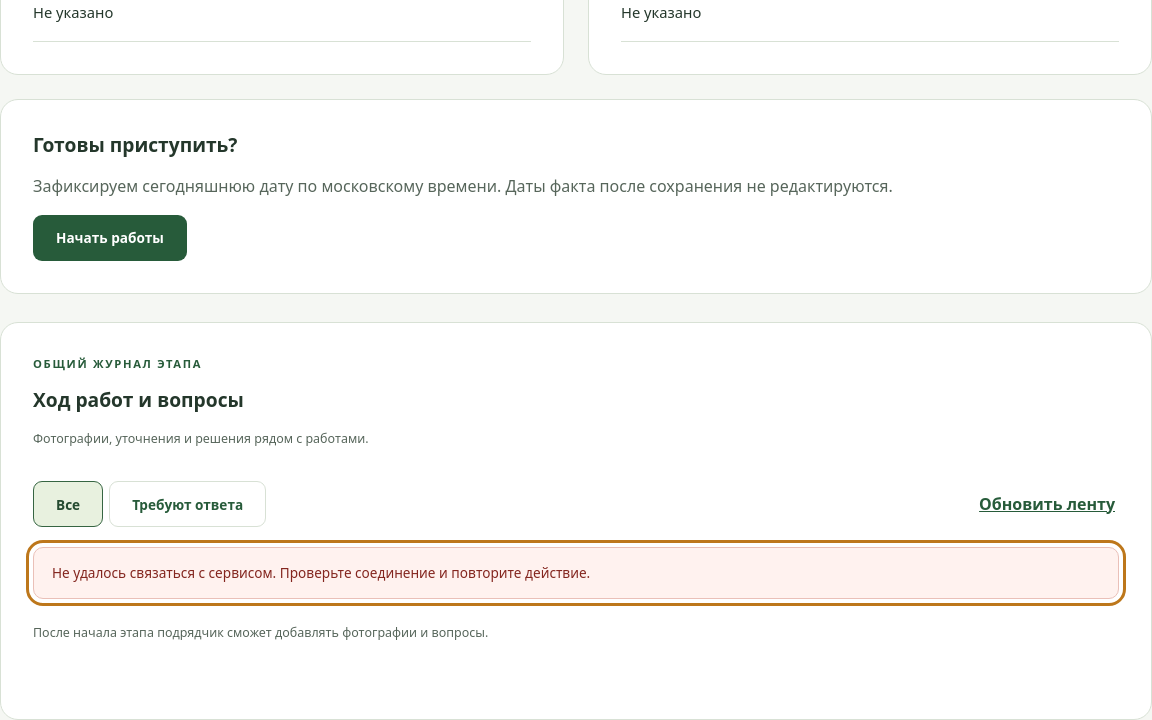
Scenario: подрядчик видит только доступный переход и результат начала работ
(page scrolled)
Step 1. Click the button "Начать работы" → [110, 238], box top-left (33, 215), bottom-right (187, 261)
(page scrolled)
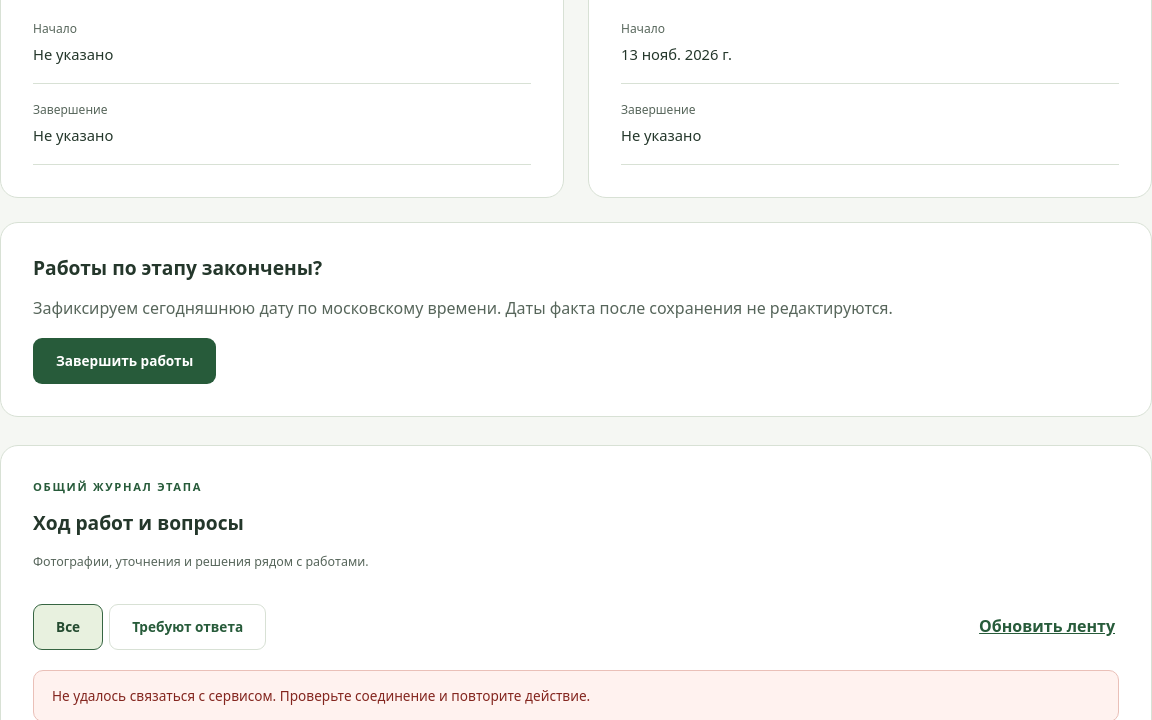
expect the button "Завершить работы" is shown: met, box top-left (33, 338), bottom-right (216, 384)
